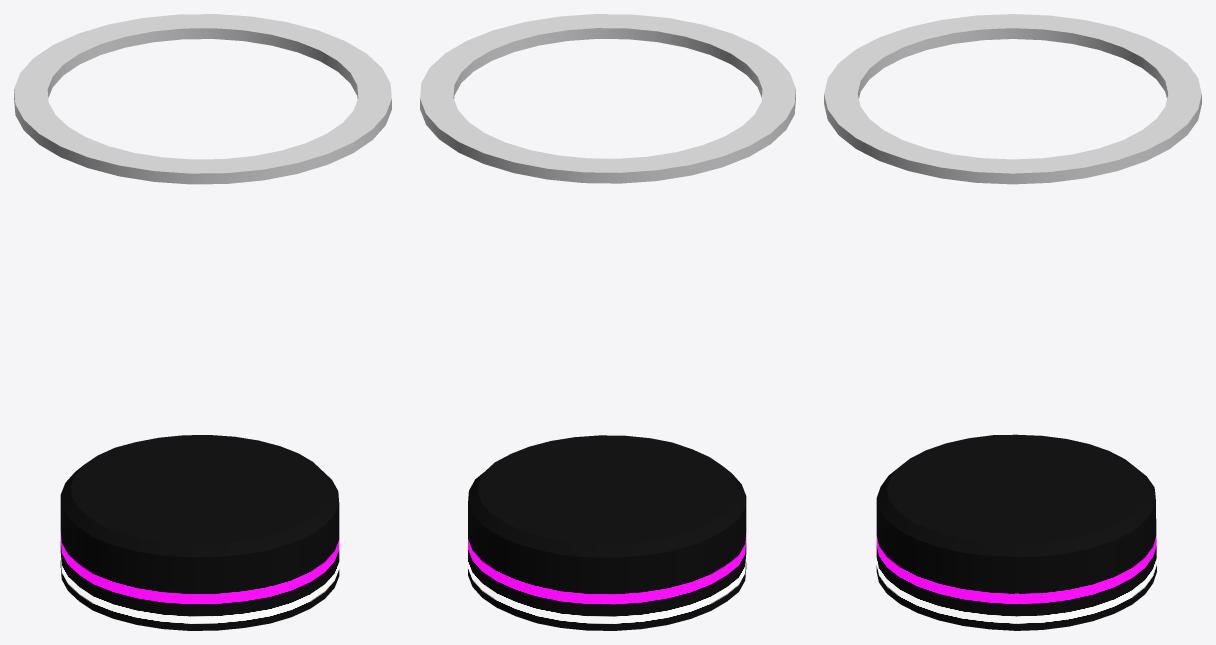
The model's file is NFTBase.fbx.
3 views of the same model, side by side, from view 1: azimuth 30°, elevation 25°; view 2: azimuth 150°, elevation 25°; view 3: azimuth 270°, elevation 25° (orthographic).
Visible parts, largest first — view 1: polySurface1; view 2: polySurface1; view 3: polySurface1.
Boxes of the visible parts, x1,y1,x2,y2 form: polySurface1: (14,14,391,630); polySurface1: (420,14,795,630); polySurface1: (824,14,1201,630).
Size of the model in its own units: 300 by 420 by 300.
